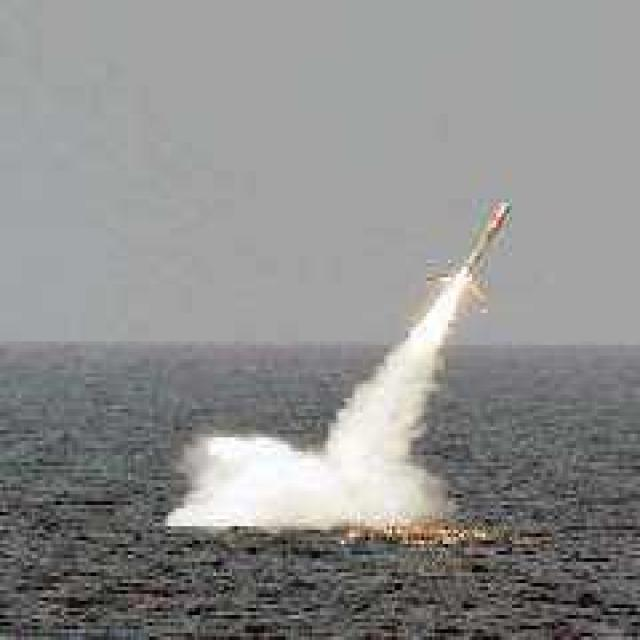missile: (426, 199, 517, 317)
